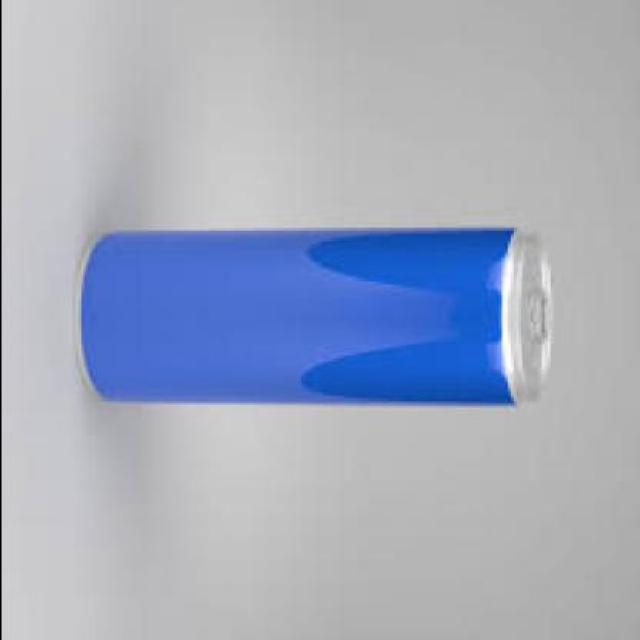METAL: (77, 231, 552, 409)
